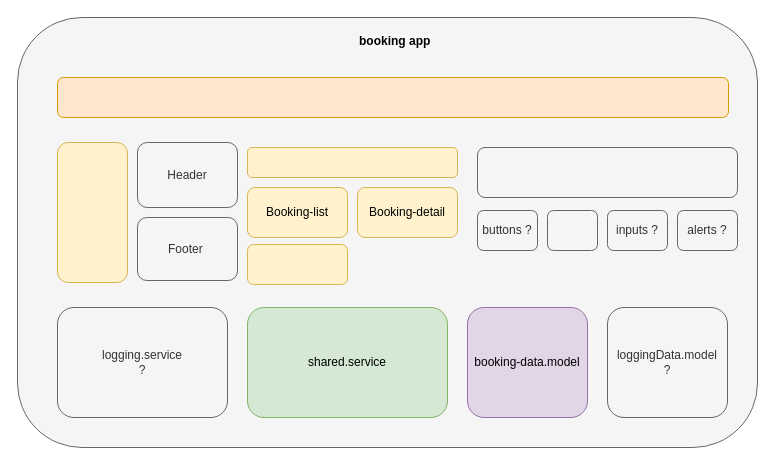
Some shapes in this 775 by 465 pixel diagram are drawn without their labels. The shapes that lost their labels are listed below. From the top down, each one's centre as x and y in pixels, then its label:
the point at 392,97: app.modul (with rooting)
the point at 352,162: Booking
the point at 607,172: UI tools
the point at 92,212: Login
the point at 572,230: Icons ?
the point at 297,264: Booking-item
